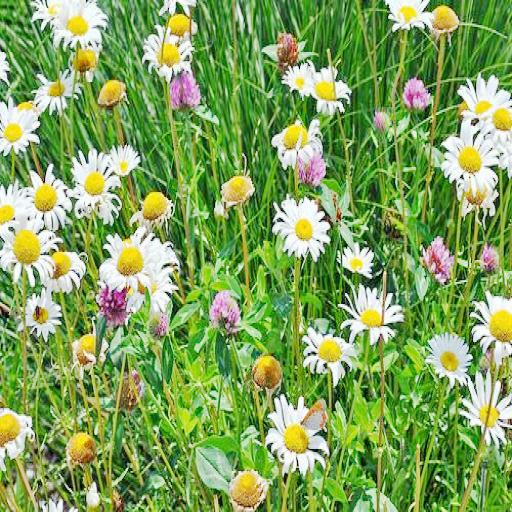daisy: (267, 400, 326, 471), (444, 128, 500, 202), (350, 276, 398, 350), (463, 381, 512, 452), (72, 151, 120, 222), (276, 198, 326, 258), (477, 292, 512, 370), (108, 235, 160, 285), (424, 332, 472, 386), (308, 320, 352, 378), (58, 2, 106, 47), (24, 173, 68, 222), (460, 76, 512, 115), (144, 35, 184, 85), (9, 226, 46, 278), (269, 120, 325, 154), (49, 244, 85, 293), (22, 290, 56, 340), (488, 99, 511, 172), (310, 66, 350, 107), (141, 189, 177, 224), (40, 2, 88, 26), (283, 57, 314, 91), (219, 175, 254, 200), (95, 79, 124, 101)
